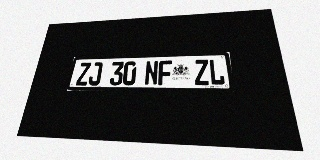0: (122, 61, 137, 85)
3: (109, 62, 124, 85)
F: (158, 60, 172, 85)
J: (88, 62, 103, 86)
L: (208, 59, 225, 85)
N: (144, 61, 158, 85)
Z: (194, 59, 210, 85), (76, 62, 91, 86)
